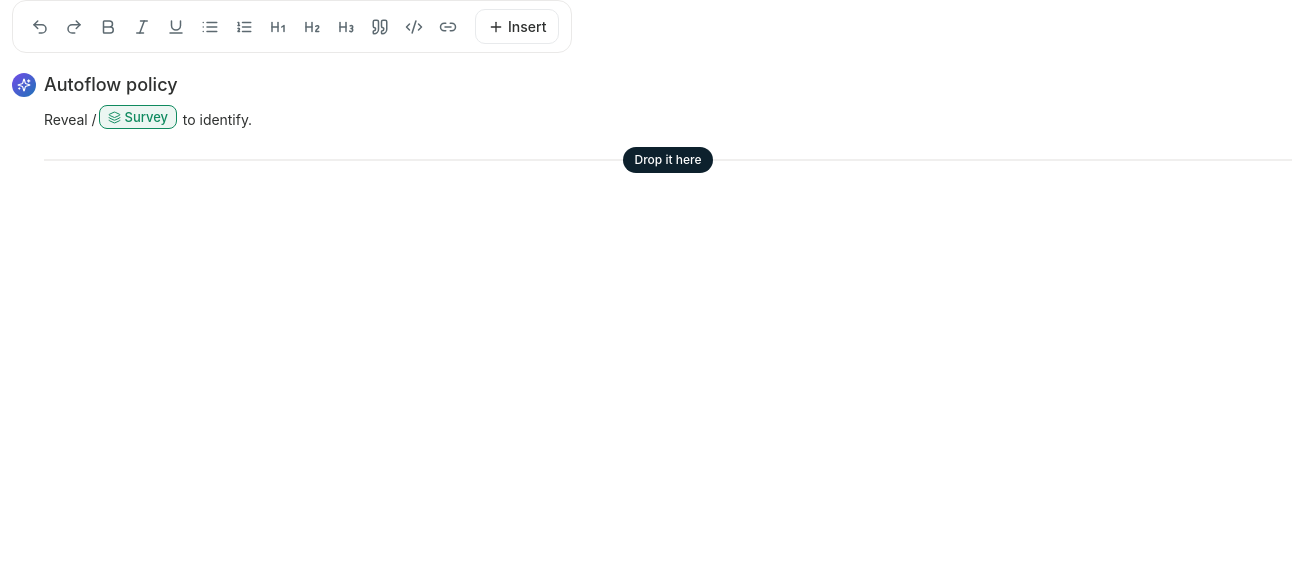
Test: PolicyEditor — slash menu › opens the menu when "/" is typed in a prose segment
Clear the text box with test id "policy-prose-p1" at [70, 119], box x1=44 y1=110 x2=97 y2=128
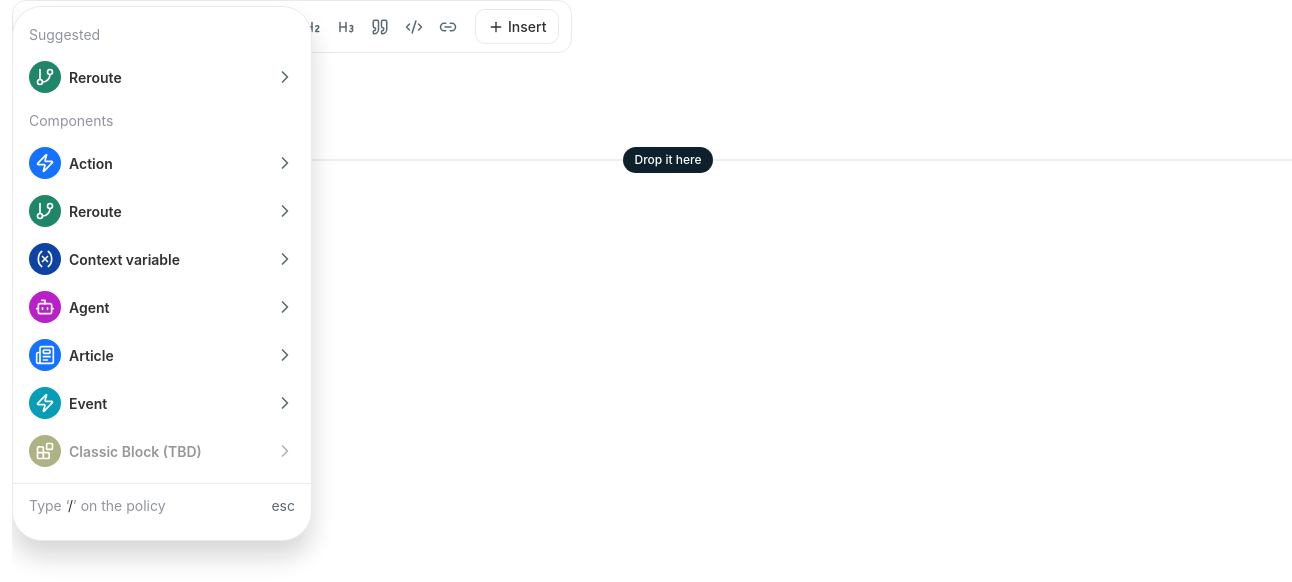
Expected: the menu named "Insert into policy" is shown, x1=12 y1=6 x2=312 y2=541
